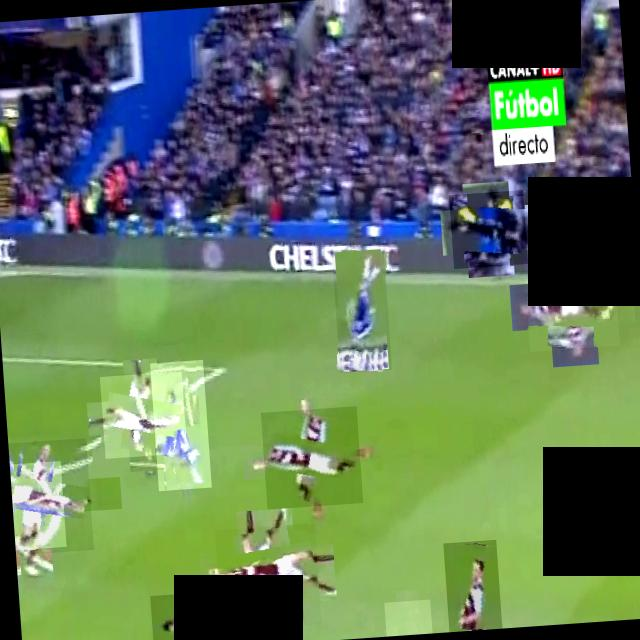referee: (448, 190, 528, 268), (384, 599, 432, 636)
soccer-player: (215, 523, 322, 631), (260, 406, 363, 509), (8, 438, 94, 554), (524, 256, 620, 352), (150, 360, 212, 490), (99, 371, 187, 458), (332, 248, 392, 372), (443, 540, 502, 632), (9, 460, 66, 550), (149, 591, 208, 640)
